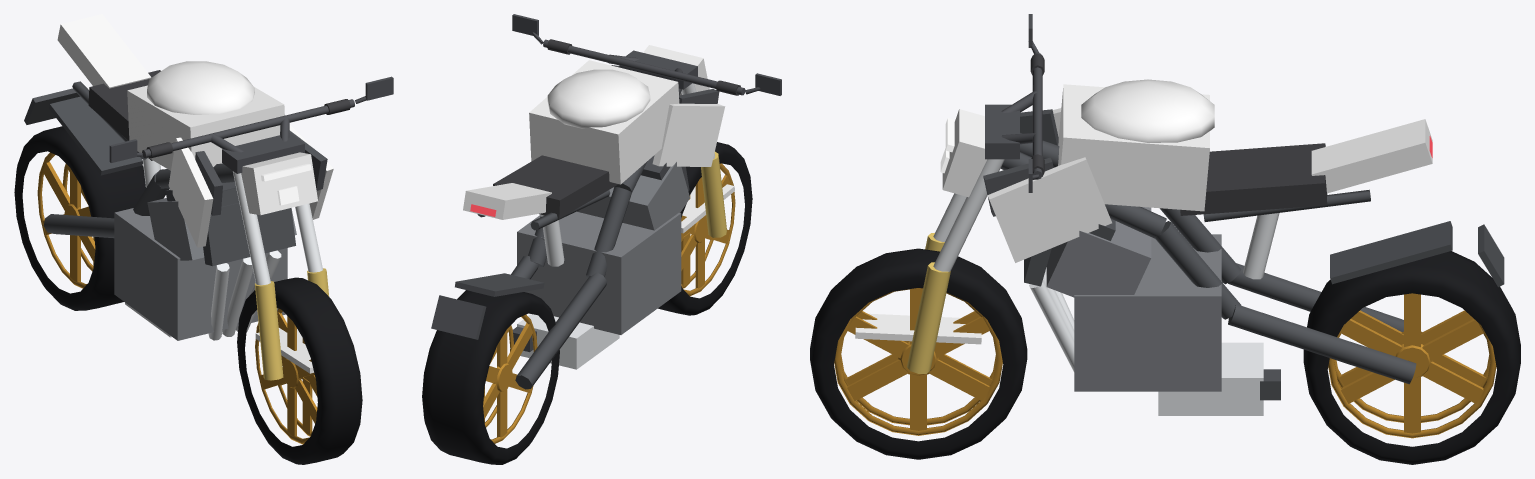
Rendered from yamaha_mt09.lod.glb.
3 views of the same model, side by side, from view 1: azimuth 30°, elevation 25°; view 2: azimuth 150°, elevation 25°; view 3: azimuth 270°, elevation 25° (orthographic). The views are drawn at different scales.
Visible parts, largest first — view 1: body_trim (×2), body_paint (×2), tire (×2), rim (×3), body_chrome (×2), headlights; view 2: body_trim (×2), body_paint (×2), tire (×2), rim (×3), body_chrome; view 3: body_trim (×2), body_paint (×2), tire (×2), rim (×4), body_chrome (×2).
Boxes of the visible parts, <box> form: body_trim (×2): <box>24,70,393,380</box>; body_paint (×2): <box>57,14,333,373</box>; tire (×2): <box>14,126,362,464</box>; rim (×3): <box>37,152,317,444</box>; body_chrome (×2): <box>125,158,322,340</box>; headlights: <box>261,164,311,205</box>; body_trim (×2): <box>431,14,781,389</box>; body_paint (×2): <box>463,45,734,233</box>; tire (×2): <box>422,142,752,464</box>; rim (×3): <box>483,163,735,443</box>; body_chrome: <box>517,214,619,369</box>; body_trim (×2): <box>907,14,1504,400</box>; body_paint (×2): <box>855,79,1432,344</box>; tire (×2): <box>810,248,1520,464</box>; rim (×4): <box>834,288,1496,438</box>; body_chrome (×2): <box>933,159,1279,415</box>.
Bounding box in the file's own units: 1.08 × 1.14 × 2.03.
